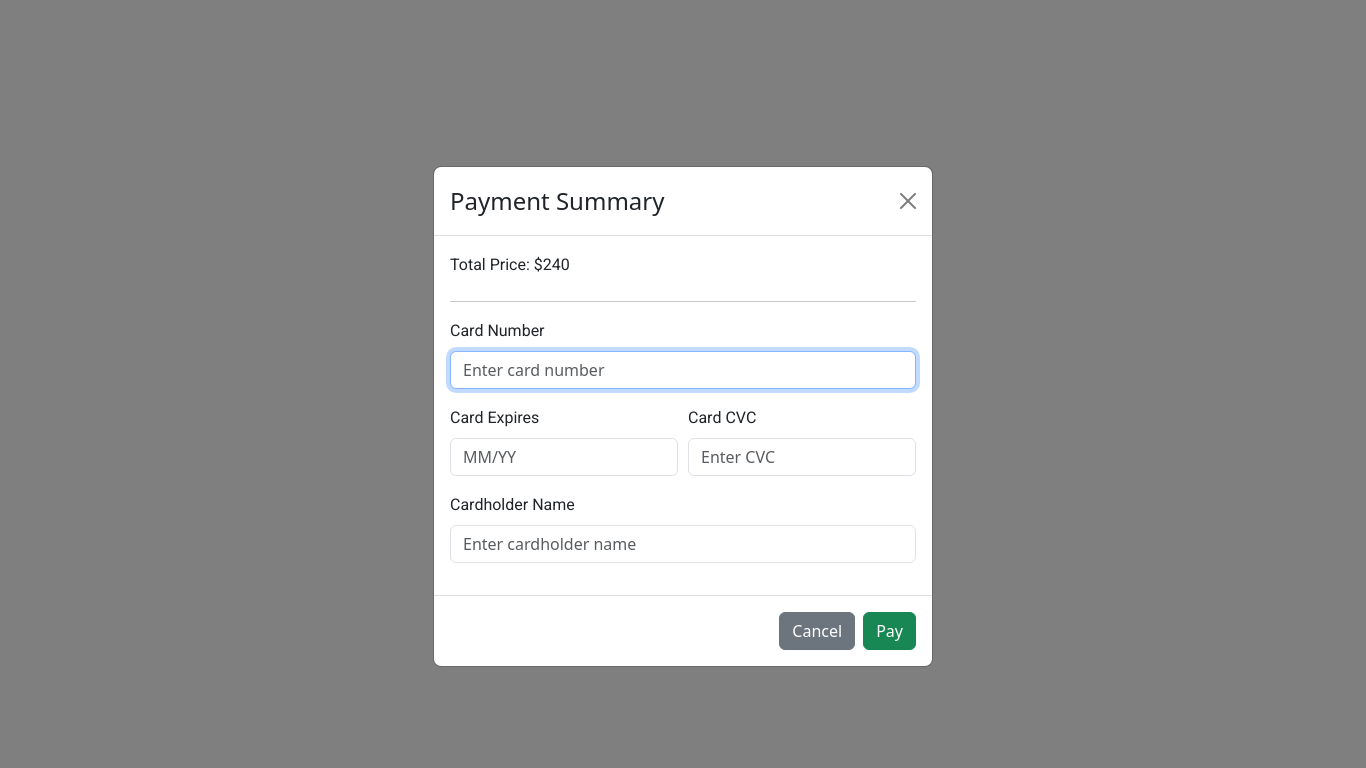
Scenario: PaymentForm Component › shows error messages for empty data
Step 1. Click the button "Pay" → [890, 630], box [863, 612, 916, 650]
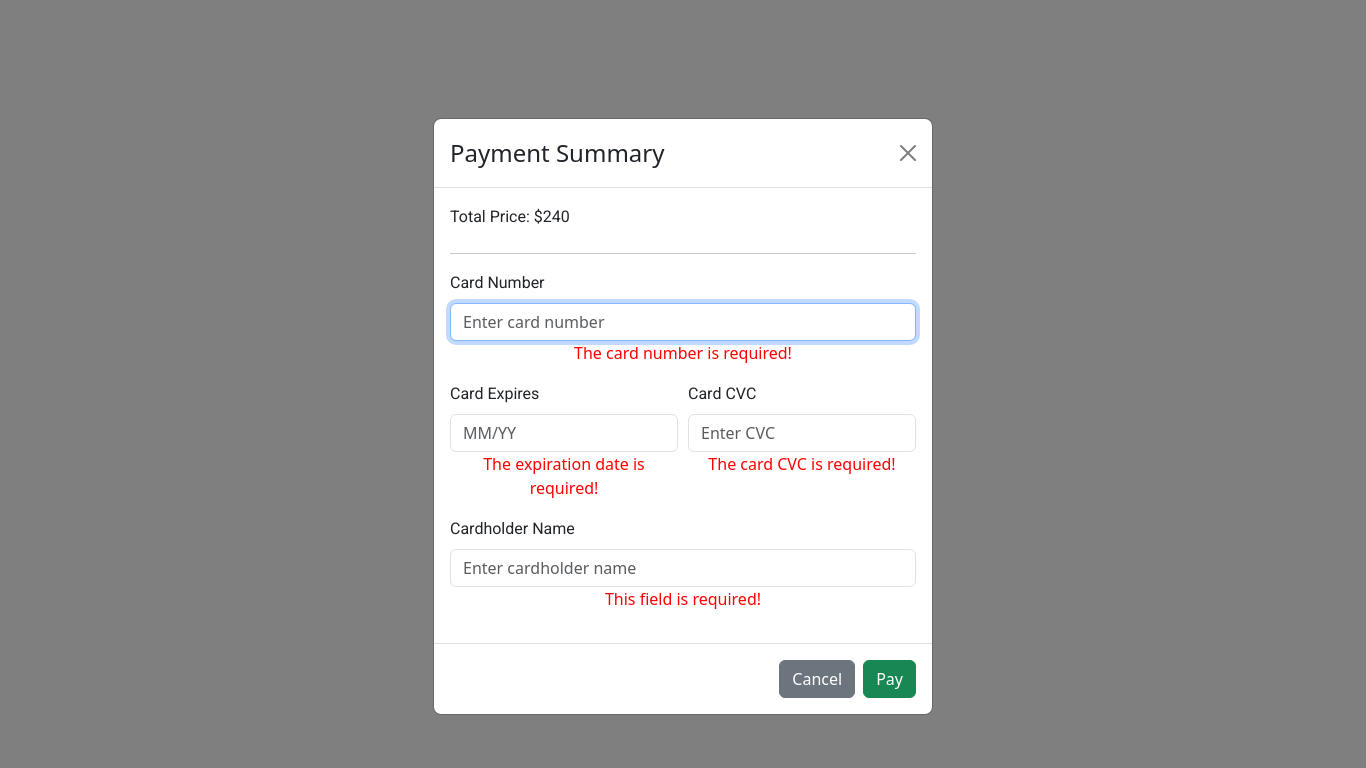
expect the text "This field is required!" is shown: met, box [605, 588, 761, 610]
expect the text "The card number is required!" is shown: met, box [574, 342, 792, 364]
expect the text "The expiration date is required!" is shown: met, box [483, 452, 645, 498]
